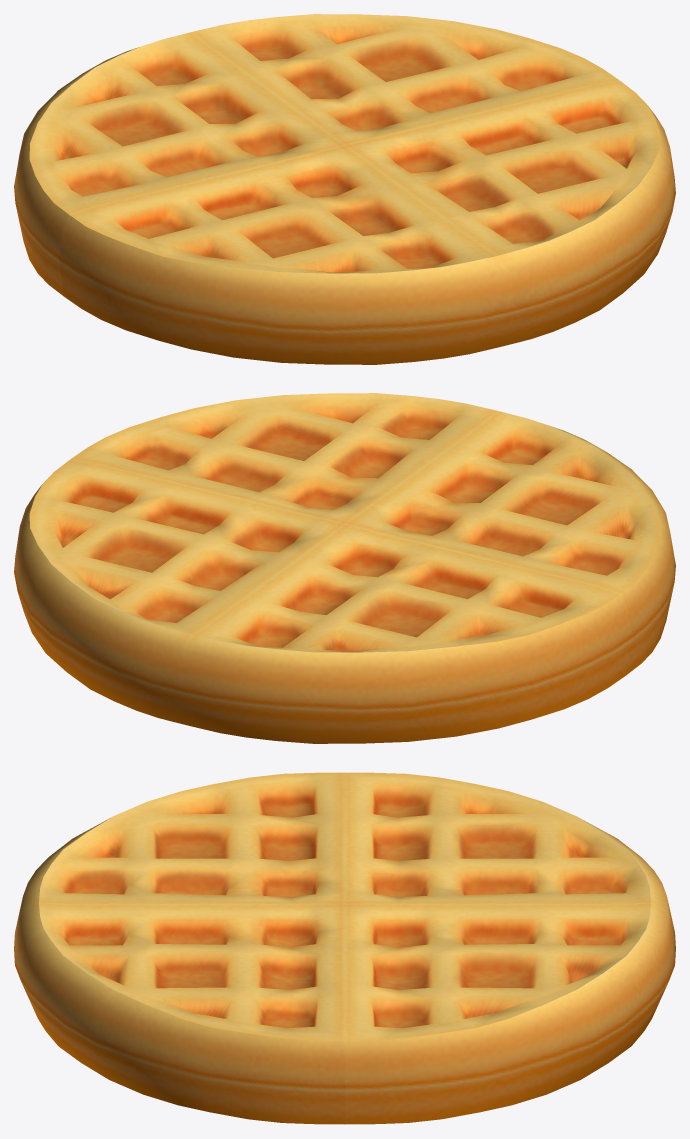
The model's file is Waffle_1.fbx.
3 views of the same model, one above another, from view 1: azimuth 30°, elevation 25°; view 2: azimuth 150°, elevation 25°; view 3: azimuth 270°, elevation 25° (orthographic).
Visible parts, largest first — view 1: Waffle_2; view 2: Waffle_2; view 3: Waffle_2.
Part boxes in pixels (box(x1,y1,x2,y2)): Waffle_2: box(14, 14, 675, 364); Waffle_2: box(14, 393, 675, 743); Waffle_2: box(14, 772, 675, 1124).
Size of the model in its own units: 69.96 by 10.66 by 70.03.
1 material, 1 textured.
